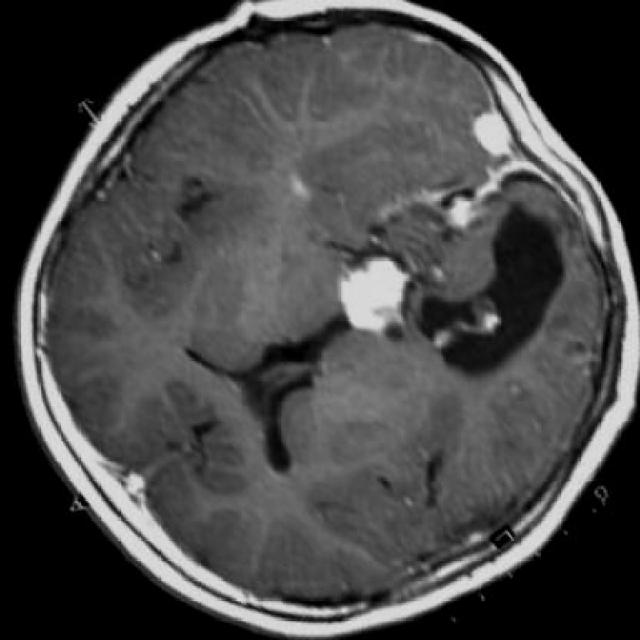Brain-Tumor: (324, 234, 428, 345)
